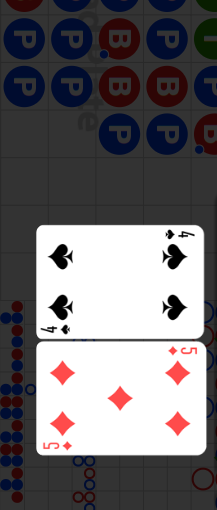4S: (163, 228, 196, 241)
5D: (42, 440, 74, 452)
